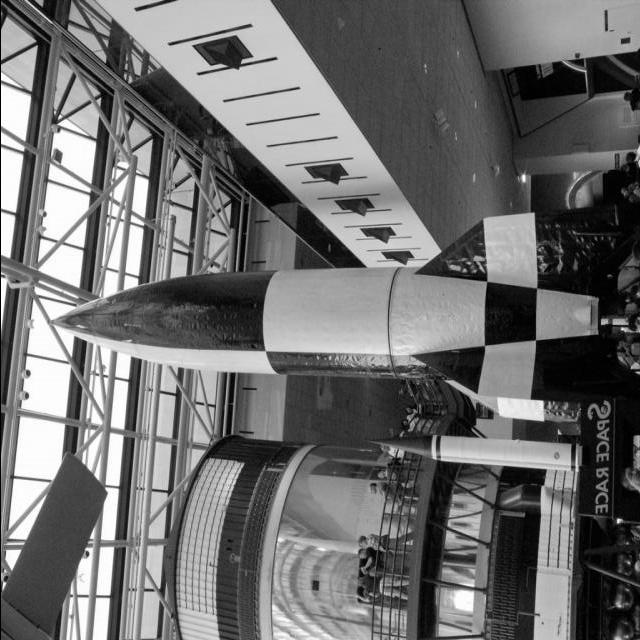missile: (44, 262, 534, 362)
